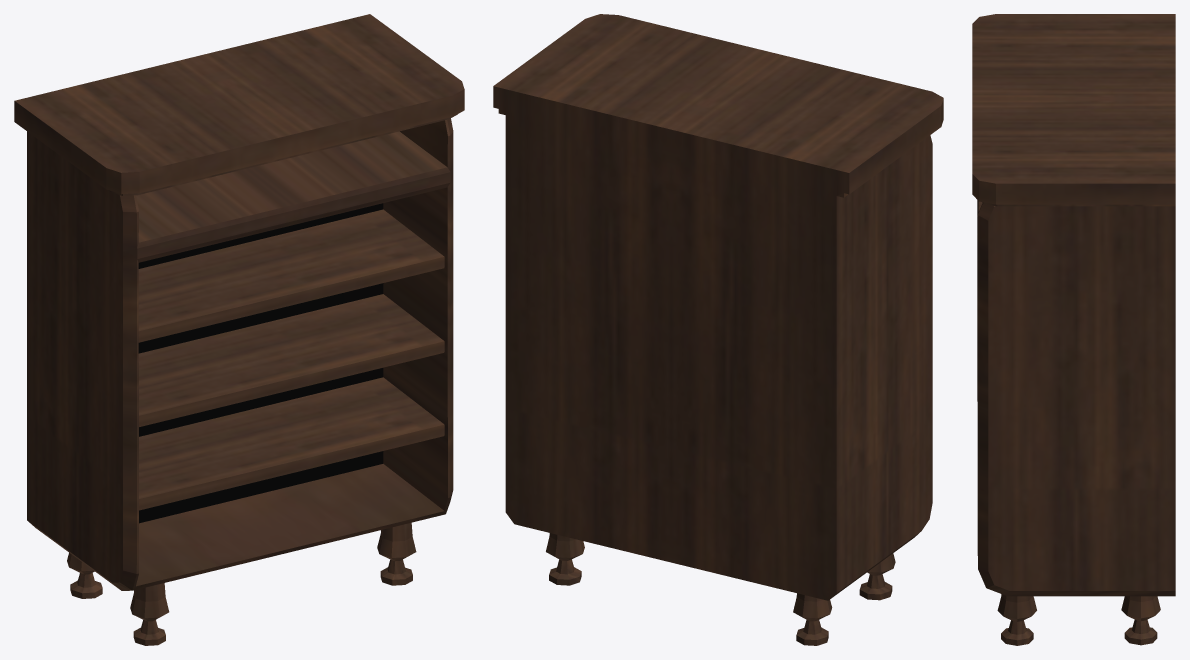
Rendered from CabinetHigh1.fbx.
3 views of the same model, side by side, from view 1: azimuth 30°, elevation 25°; view 2: azimuth 150°, elevation 25°; view 3: azimuth 270°, elevation 25° (orthographic). The views are drawn at different scales.
Parts seen in each view (by area): view 1: Cube.039; view 2: Cube.039; view 3: Cube.039.
Part boxes in pixels (left/top/right/bottom): Cube.039: left=14, top=14, right=464, bottom=645; Cube.039: left=493, top=14, right=943, bottom=645; Cube.039: left=972, top=14, right=1175, bottom=645.
Size of the model in its own units: 184 by 244 by 93.38.
1 material, 1 textured.
